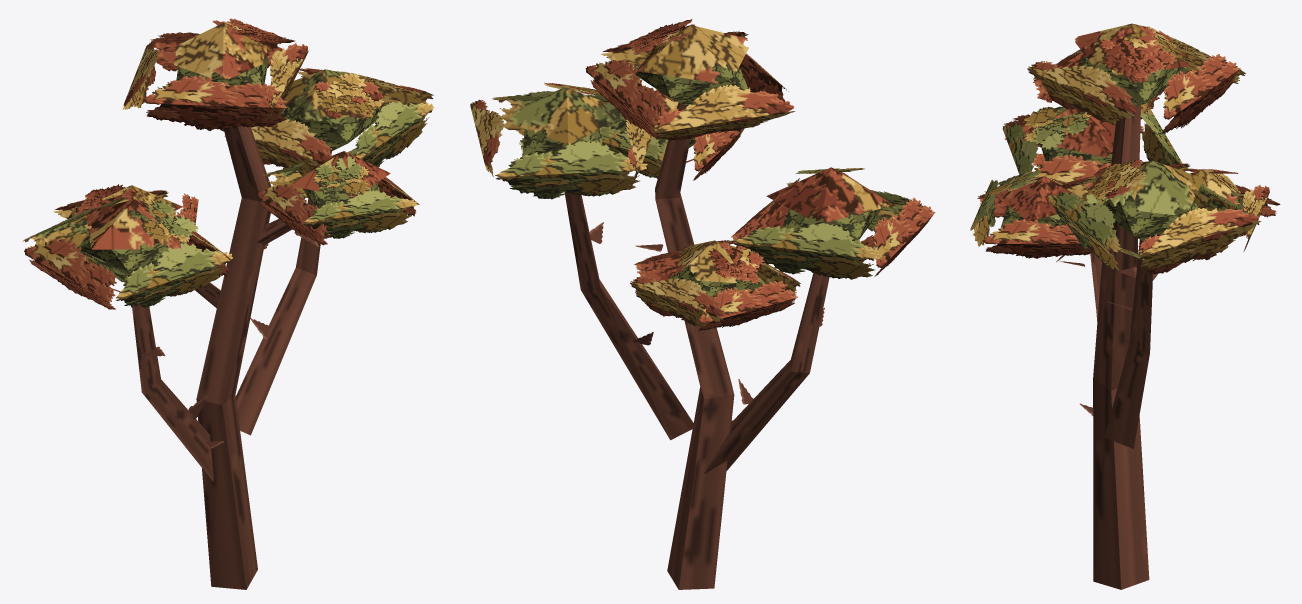
Rendered from SM_VG09_BushTallThorny.fbx.
The picture shows the model from 3 angles, left to right: view 1: azimuth 30°, elevation 25°; view 2: azimuth 150°, elevation 25°; view 3: azimuth 270°, elevation 25°; orthographic projection.
Visible parts, largest first — view 1: VG09_Bush; view 2: VG09_Bush; view 3: VG09_Bush.
Part boxes in pixels (x1=…): VG09_Bush: x1=22, y1=18, x2=433, y2=589; VG09_Bush: x1=470, y1=19, x2=935, y2=589; VG09_Bush: x1=970, y1=23, x2=1280, y2=589.
Size of the model in its own units: 1.34 by 1.7 by 0.8822.
